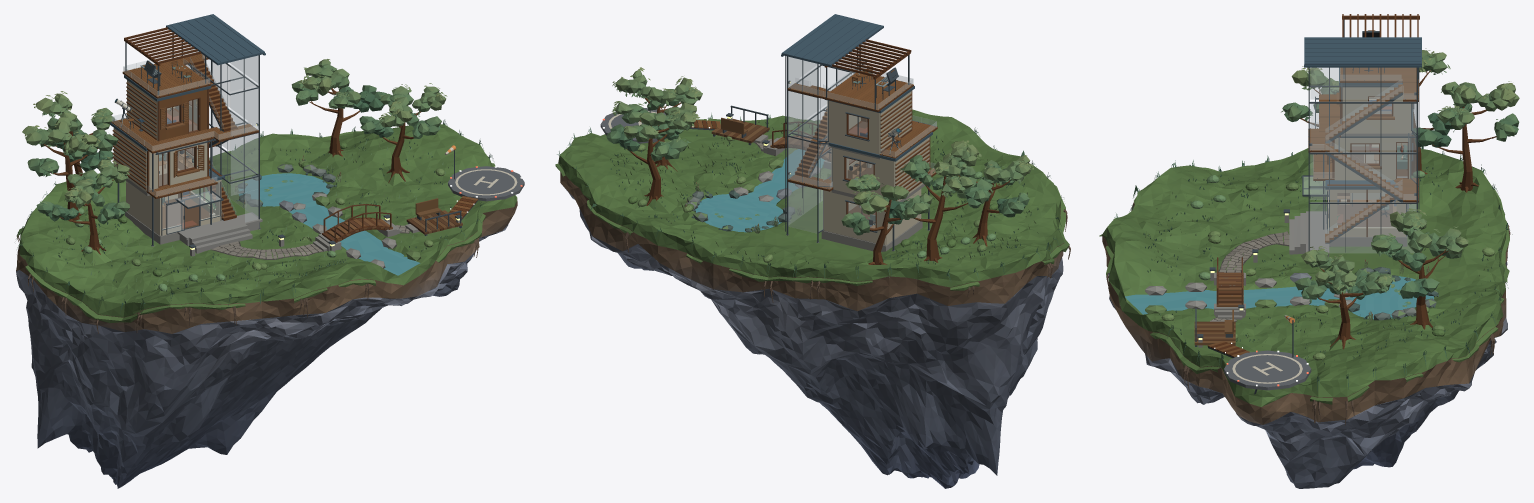
Rendered from island_b_lod1.glb.
3 renders of one model, left to right at view 1: azimuth 30°, elevation 25°; view 2: azimuth 150°, elevation 25°; view 3: azimuth 270°, elevation 25°, orthographic. The views are drawn at different scales.
Parts seen in each view (by area): view 1: Island, Rock, House, Trees, Glass, Turf, Water, Paths, Pad, Interiors, Props; view 2: Island, Rock, House, Trees, Glass, Turf, Water, Paths, Pad, Interiors, Props; view 3: Island, House, Glass, Trees, Rock, Turf, Water, Pad, Paths, Interiors, Props.
Part boxes in pixels (x1,y1,x2,y2): Island: (16, 124, 517, 333); Rock: (16, 164, 508, 488); House: (110, 14, 265, 253); Trees: (22, 59, 447, 254); Glass: (112, 42, 258, 233); Turf: (16, 119, 495, 333); Water: (238, 173, 420, 275); Paths: (210, 198, 462, 259); Pad: (445, 145, 524, 220); Interiors: (159, 100, 216, 229); Props: (114, 60, 462, 256); Island: (558, 109, 1064, 311); Rock: (563, 120, 1063, 488); House: (781, 14, 937, 251); Trees: (606, 67, 1033, 264); Glass: (788, 44, 936, 233); Turf: (555, 113, 1070, 302); Water: (695, 149, 824, 232); Paths: (711, 105, 830, 161); Pad: (600, 105, 720, 143); Interiors: (847, 121, 875, 228); Props: (726, 67, 901, 154); Island: (1102, 148, 1507, 424); House: (1289, 14, 1421, 256); Glass: (1303, 67, 1416, 252); Trees: (1281, 48, 1519, 349); Rock: (1108, 257, 1507, 488); Turf: (1099, 146, 1512, 425); Water: (1125, 276, 1434, 319); Pad: (1207, 315, 1311, 394); Paths: (1194, 231, 1289, 346); Interiors: (1328, 97, 1407, 226); Props: (1197, 30, 1379, 347).
Size of the model in its own units: 35.12 by 29.79 by 24.1.
